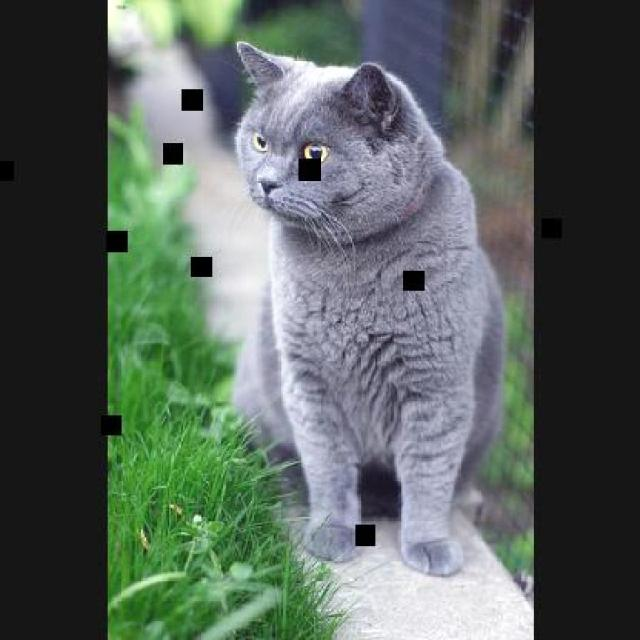unauthorized: (229, 38, 506, 577)
